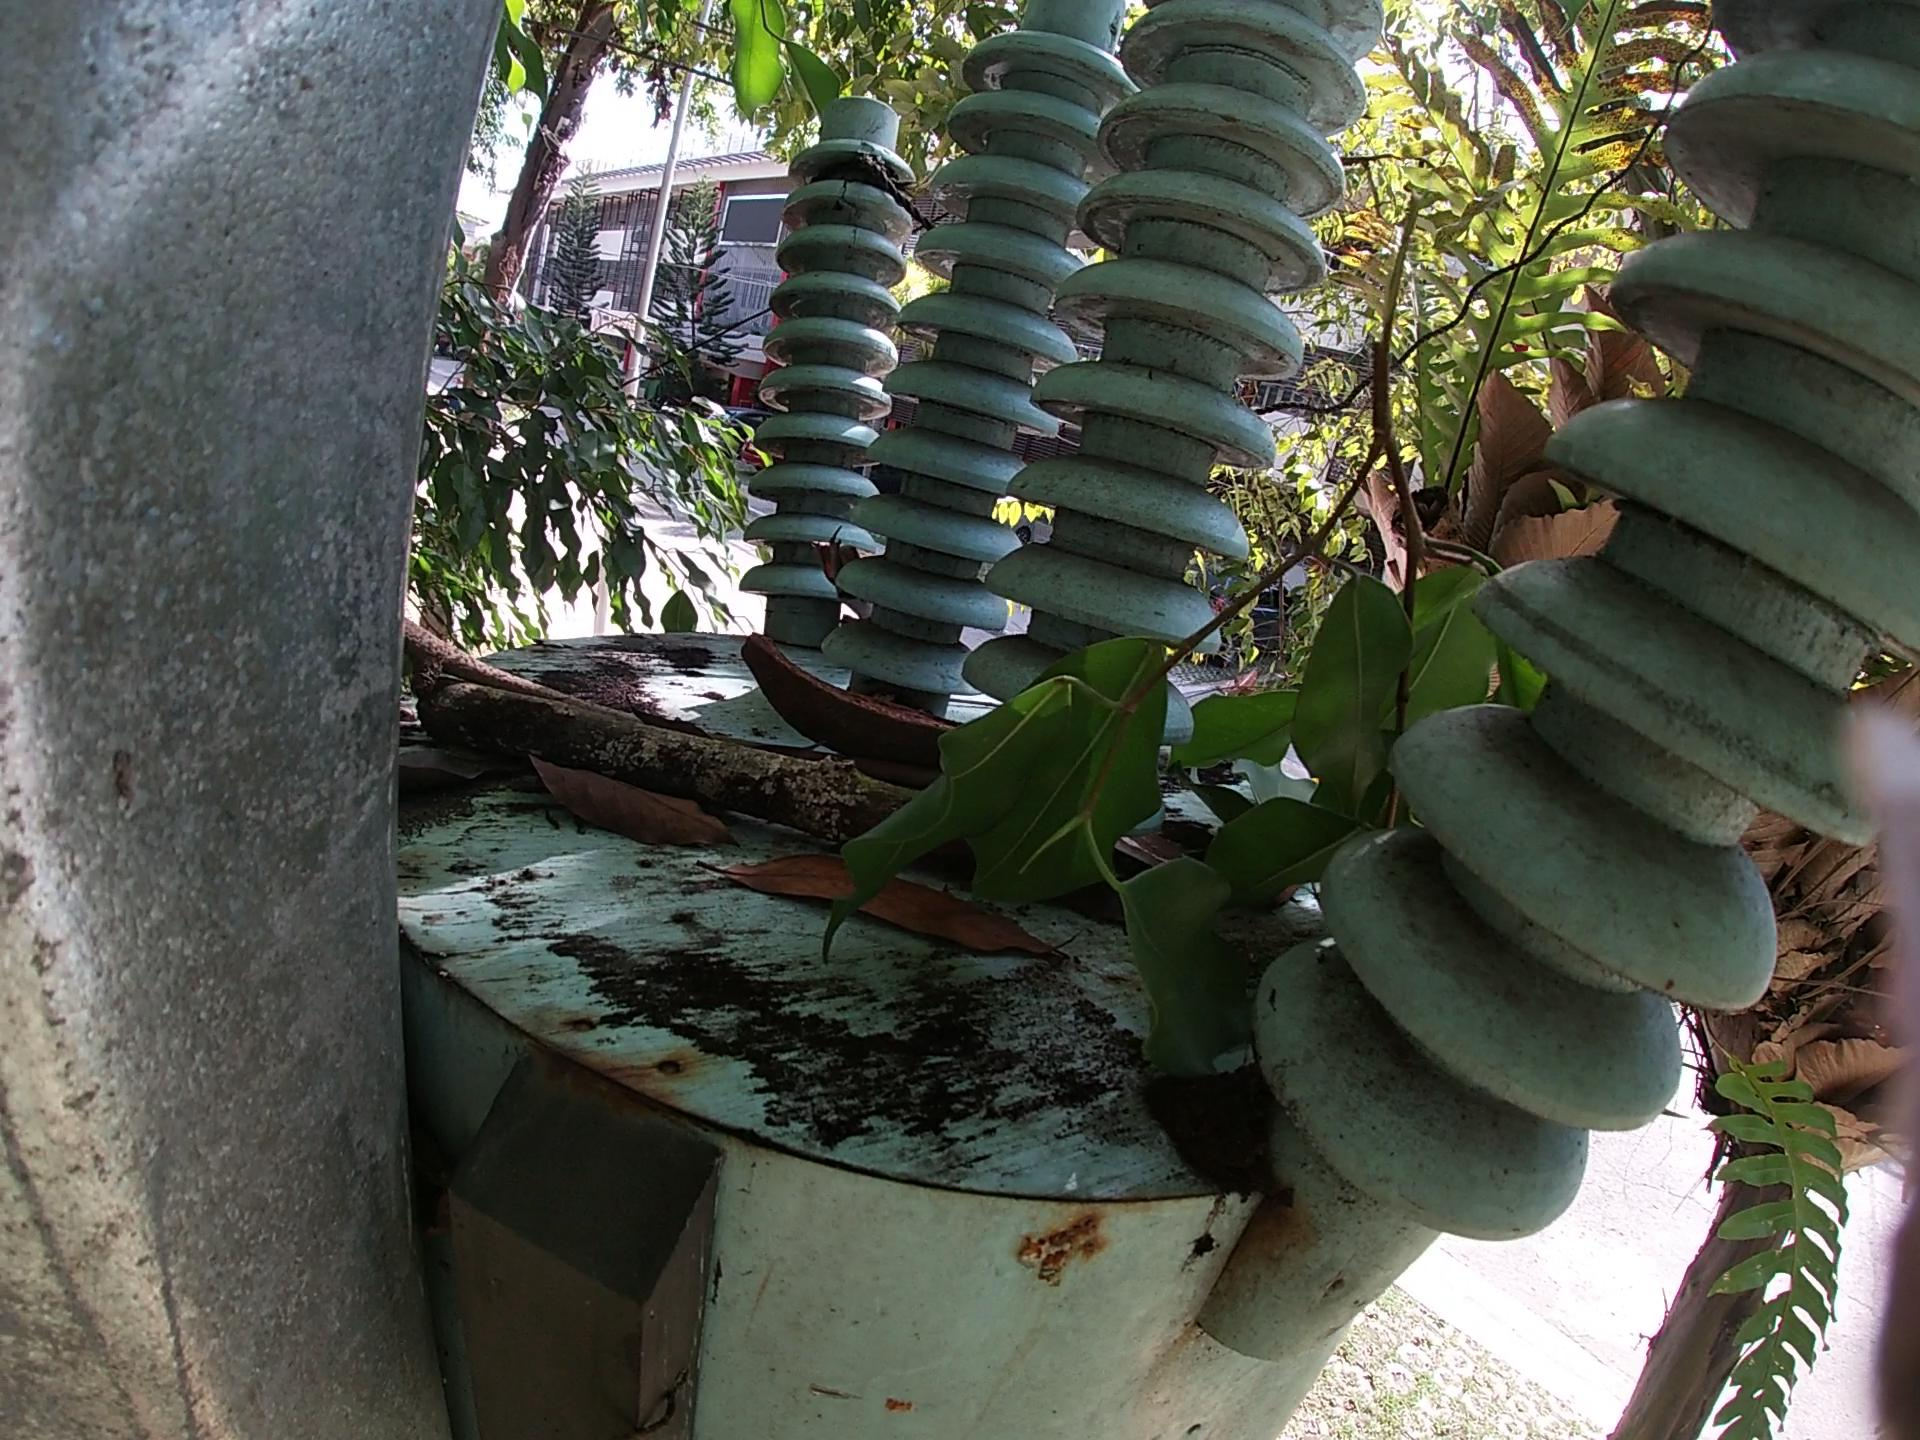branch with leaves: (816, 171, 1545, 1230)
leaf: (738, 861, 1070, 979), (537, 767, 738, 849), (384, 750, 463, 806)
mahogany fruit: (738, 628, 989, 779)
tree branch: (429, 669, 949, 856), (376, 619, 647, 717)
